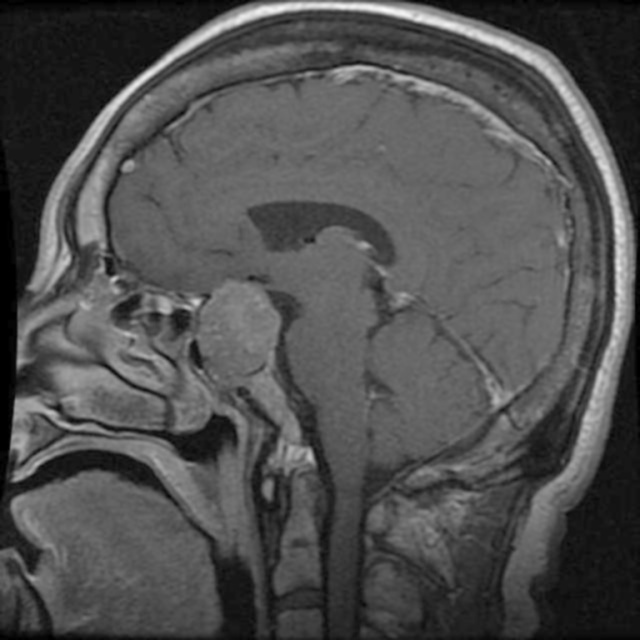no tumor: (182, 277, 294, 393)
